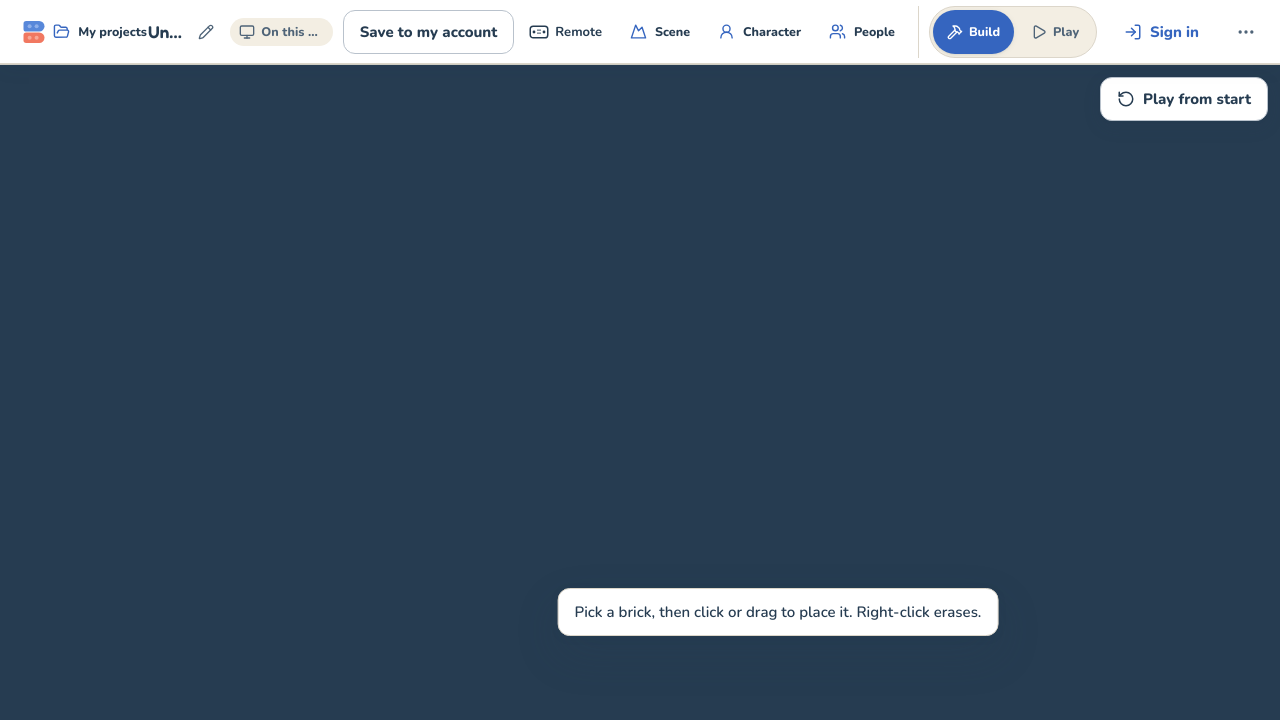
Test: explicitly saves an untouched world to the account
Click the button "Save to my account".
click(429, 32)  # box left=343, top=10, right=514, bottom=54
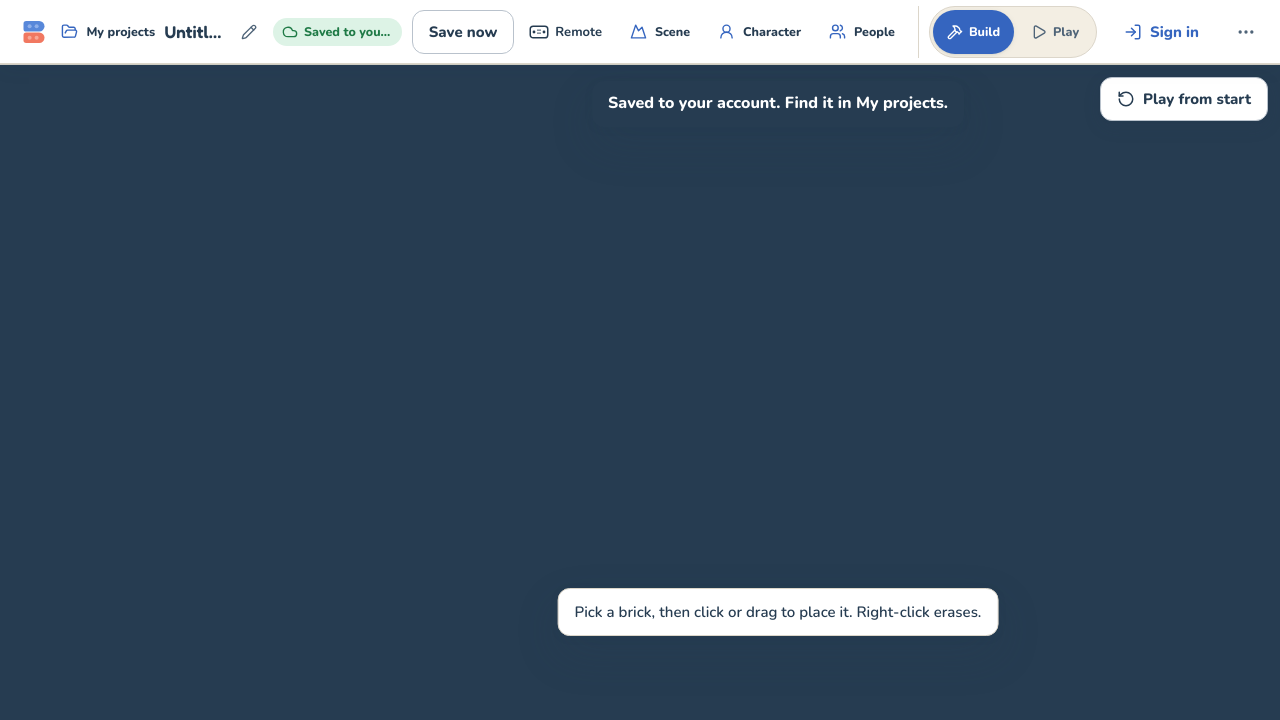
Check: the button "Save now" is shown, box left=412, top=10, right=514, bottom=54
